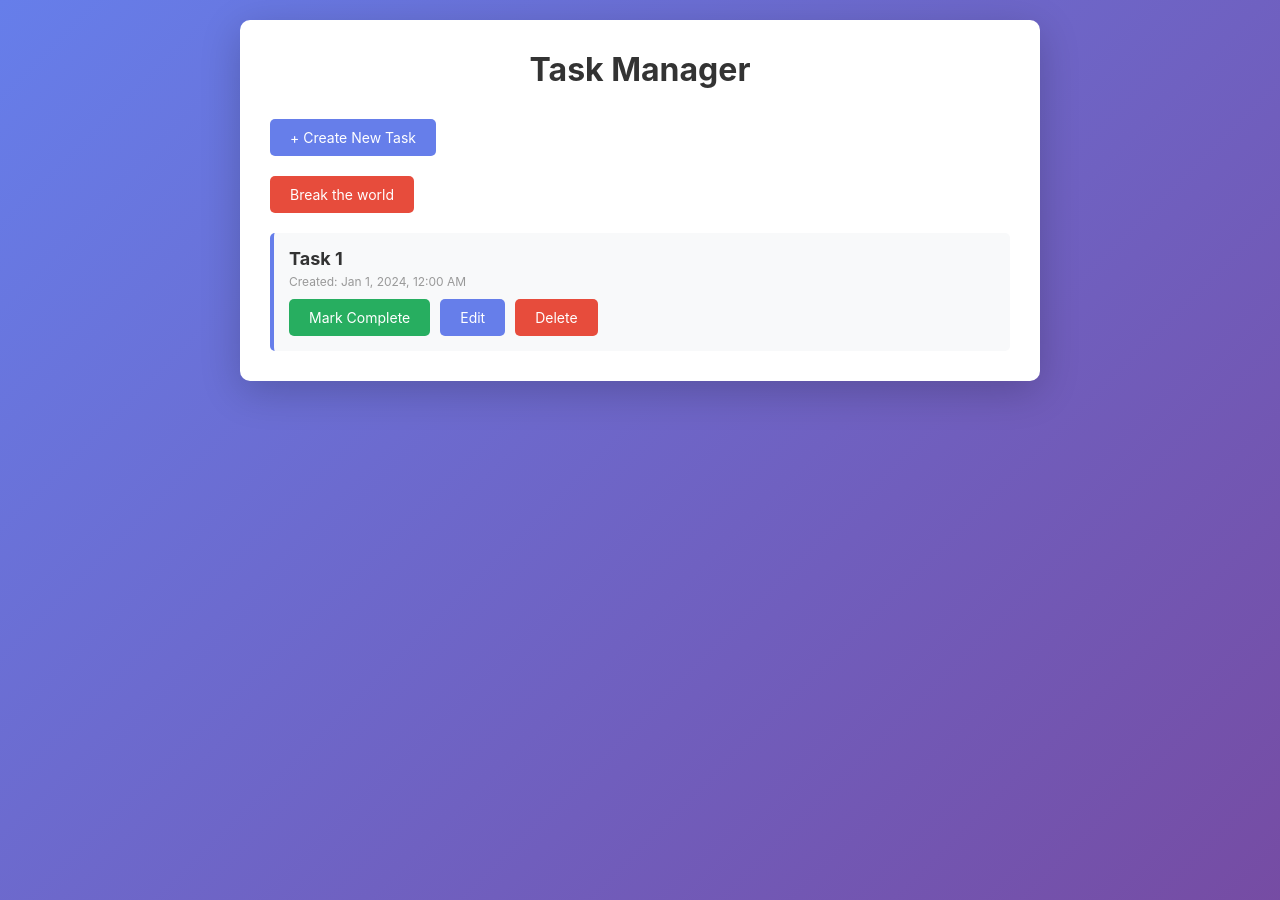
Test case: App › Edit task › displays error message when updating task fails
This screenshot has width=1280, height=900.
Expected: the text "Task 1" is shown, [289, 248, 343, 269]
Click the button "Edit": click(473, 318) [440, 299, 505, 336]
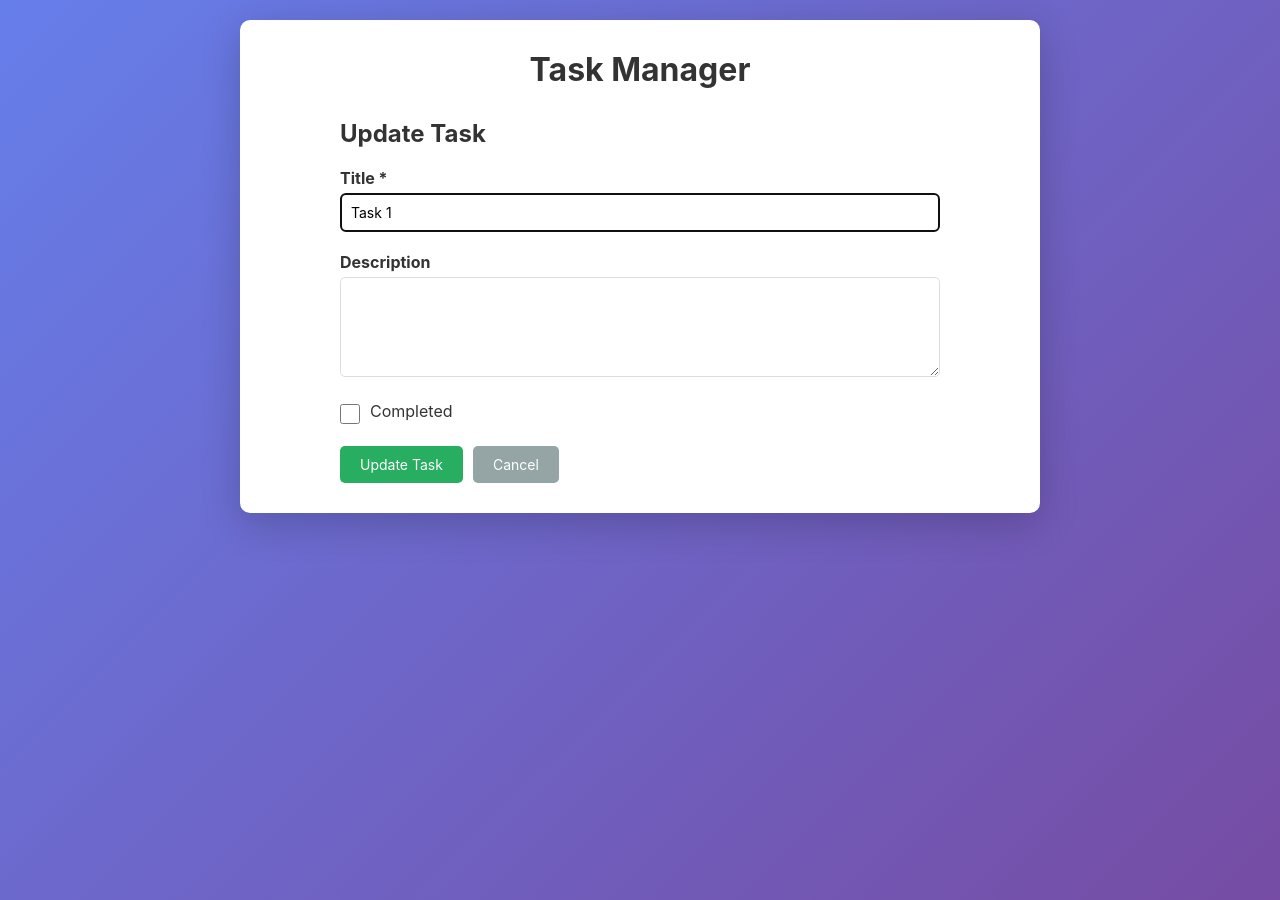
Click the button "Update Task": click(401, 464) [340, 446, 463, 483]
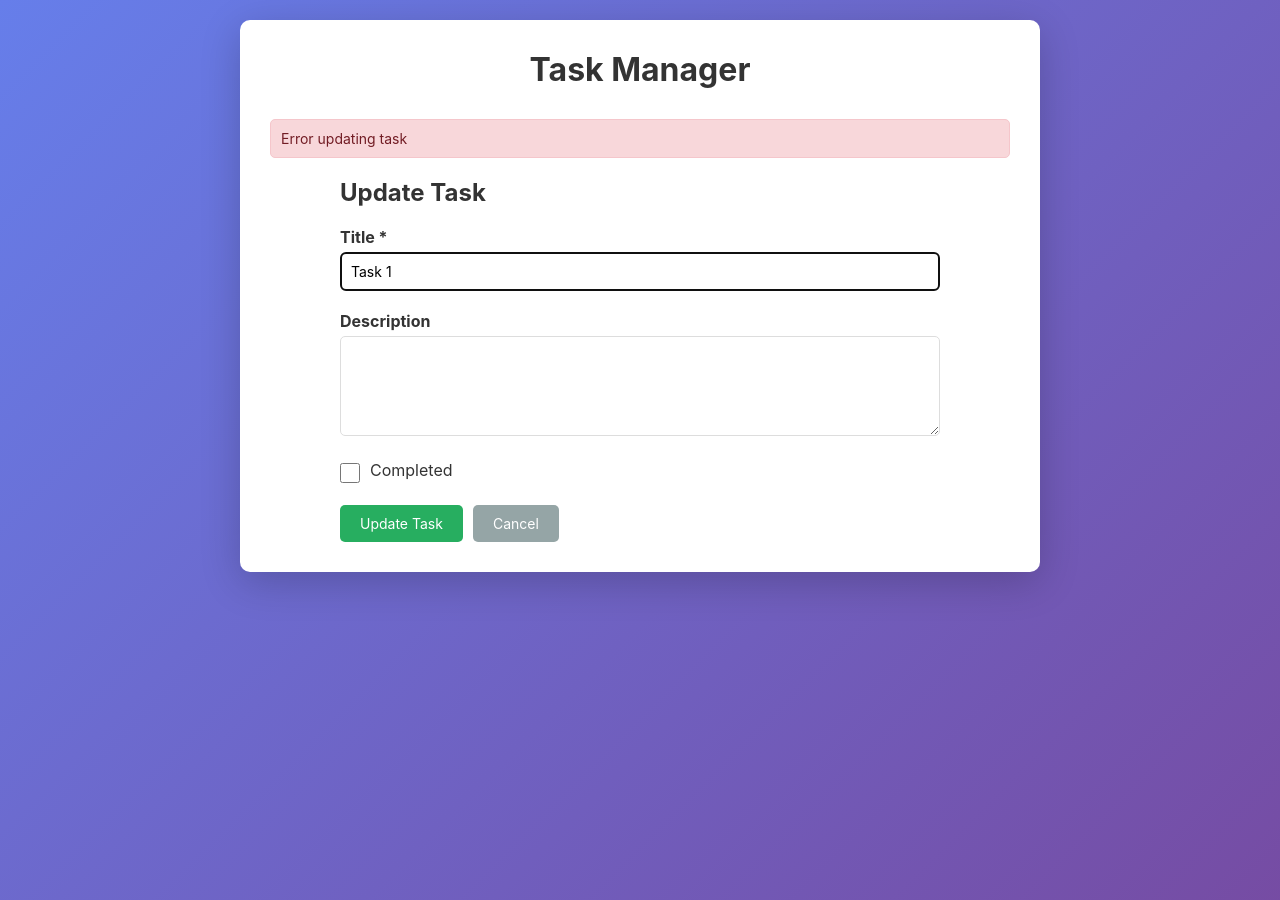
Expected: the text "Error updating task" is shown, [270, 119, 1010, 158]
